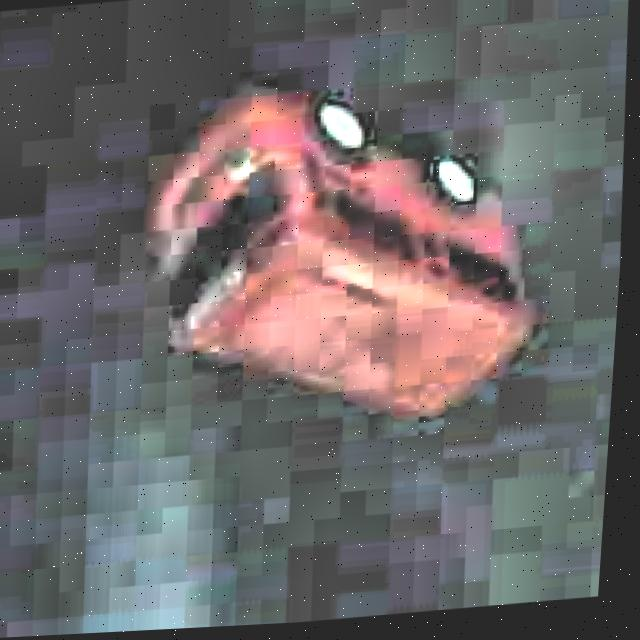bus: (119, 28, 567, 462)
